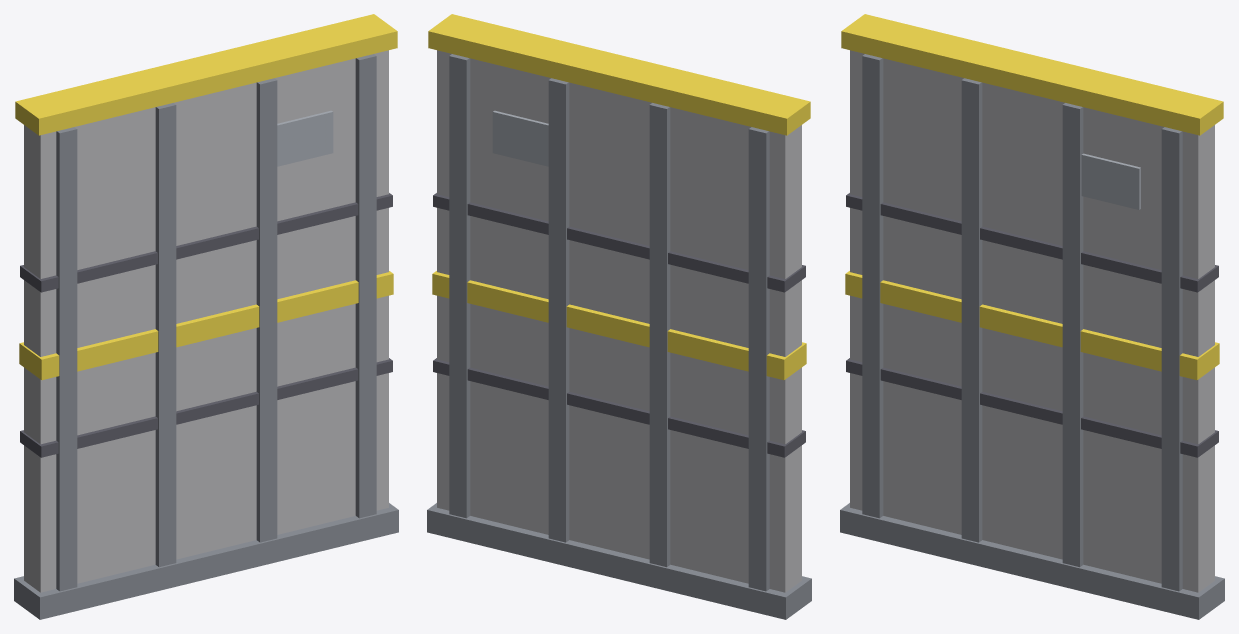
Rendered from wall_high.glb.
The picture shows the model from 3 angles, left to right: view 1: azimuth 30°, elevation 25°; view 2: azimuth 150°, elevation 25°; view 3: azimuth 330°, elevation 25°; orthographic projection.
Parts seen in each view (by area): view 1: wall_high; view 2: wall_high; view 3: wall_high.
Boxes of the visible parts, x1,y1,x2,y2 form: wall_high: [14, 14, 398, 619]; wall_high: [427, 14, 811, 619]; wall_high: [840, 14, 1224, 619].
Size of the model in its own units: 2 by 2.66 by 0.25.
